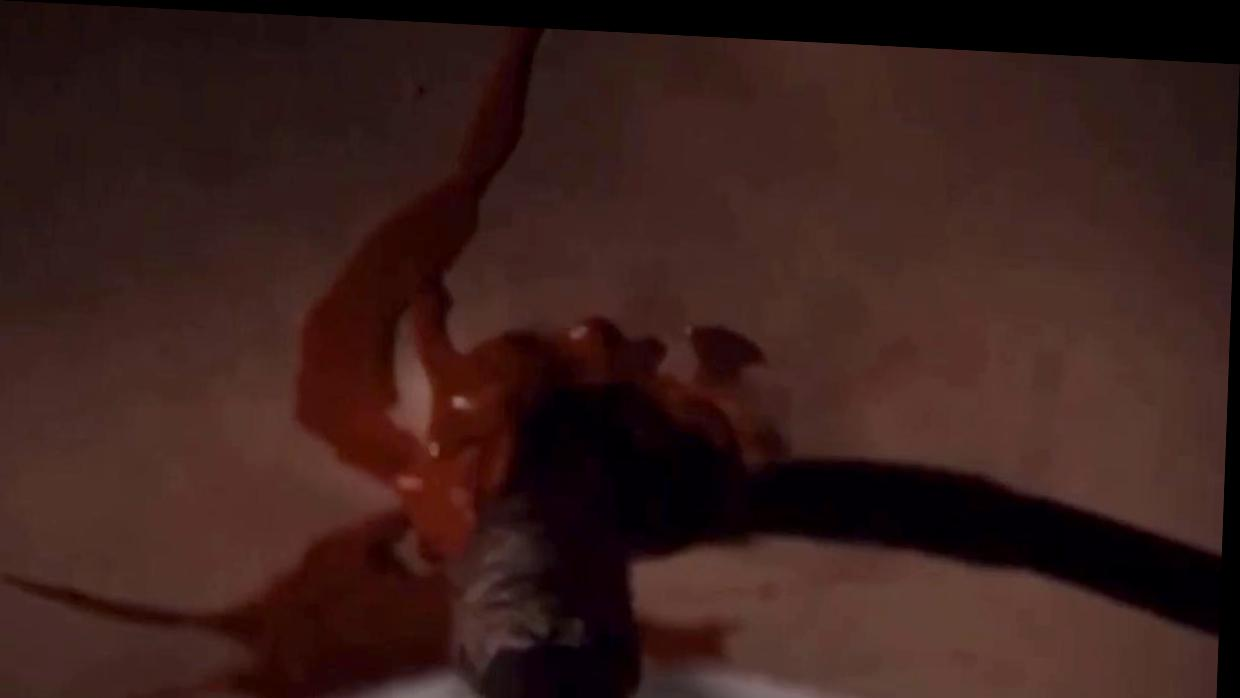Fire: (0, 21, 1226, 698)
